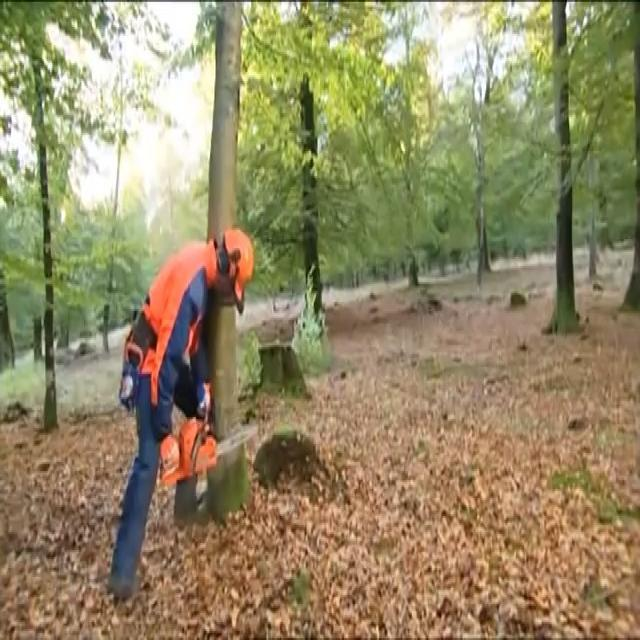Chainsaw: (148, 400, 266, 500)
